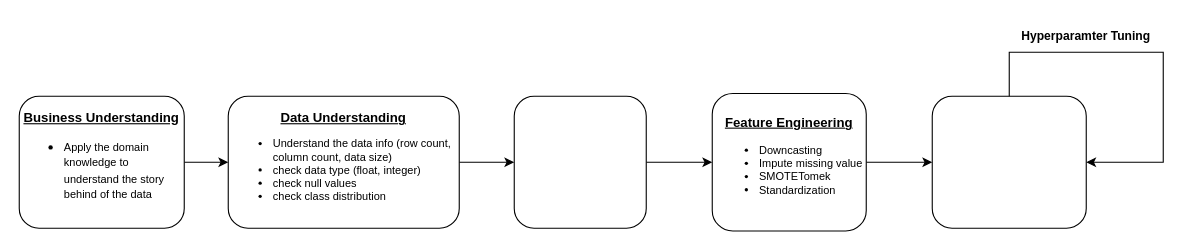
Some shapes in this 1194 by 250 pixel diagram are drawn without their labels. Each missing label, with the centre of its shape:
"EDA Visualization Histogram Boxplot Outlier Analysis" goes at (579,161).
"Model Creation Build classification model (XGBoost)" goes at (1008,161).
